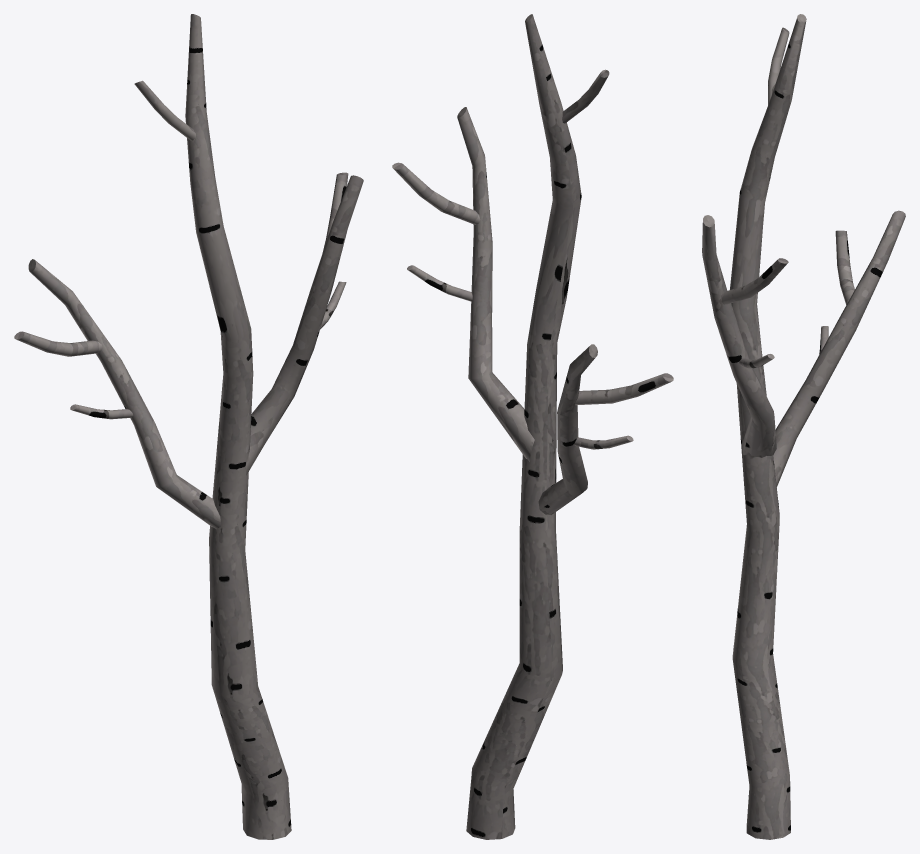
File: deadbirch_7.glb
3 views of the same model, side by side, from view 1: azimuth 30°, elevation 25°; view 2: azimuth 150°, elevation 25°; view 3: azimuth 270°, elevation 25° (orthographic). The views are drawn at different scales.
Parts seen in each view (by area): view 1: DeadBirch_7; view 2: DeadBirch_7; view 3: DeadBirch_7.
Part boxes in pixels (left/top/right/bottom): DeadBirch_7: left=14, top=14, right=363, bottom=839; DeadBirch_7: left=392, top=14, right=673, bottom=839; DeadBirch_7: left=702, top=14, right=905, bottom=839.
Bounding box in the file's own units: 3.81 × 9.85 × 2.31.
Materials: 1 (1 with a texture image).
